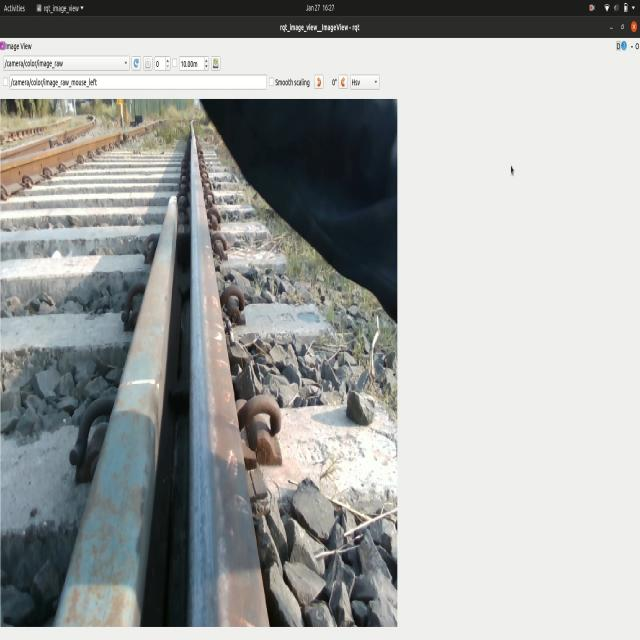correct: (215, 342, 313, 500)
